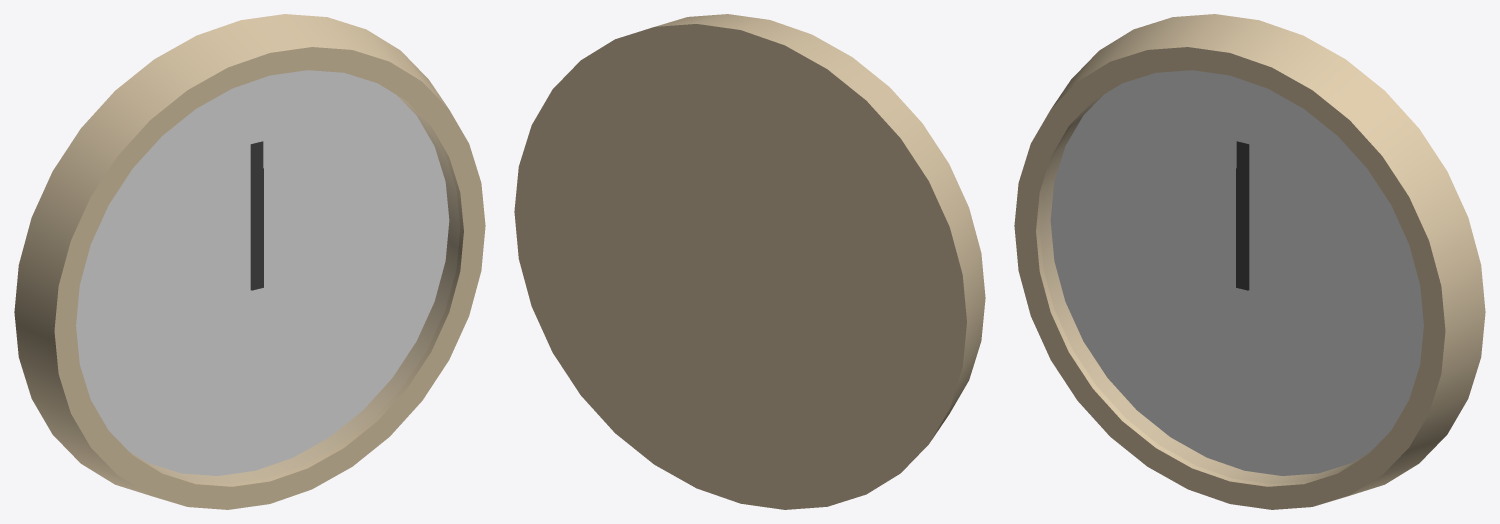
File: wall-clock.glb
3 views of the same model, side by side, from view 1: azimuth 30°, elevation 25°; view 2: azimuth 150°, elevation 25°; view 3: azimuth 330°, elevation 25° (orthographic).
Visible parts, largest first — view 1: Body, __X_HAND_H__, __X_HAND_M__; view 2: Body; view 3: Body, __X_HAND_H__, __X_HAND_M__.
Part boxes in pixels (x1,y1,x2,y2): Body: [14, 14, 485, 509]; __X_HAND_H__: [251, 168, 263, 290]; __X_HAND_M__: [250, 141, 263, 289]; Body: [514, 14, 985, 509]; Body: [1014, 14, 1485, 509]; __X_HAND_H__: [1236, 168, 1248, 290]; __X_HAND_M__: [1236, 141, 1249, 289].
Bounding box in the file's own units: 0.357 × 0.357 × 0.04.
